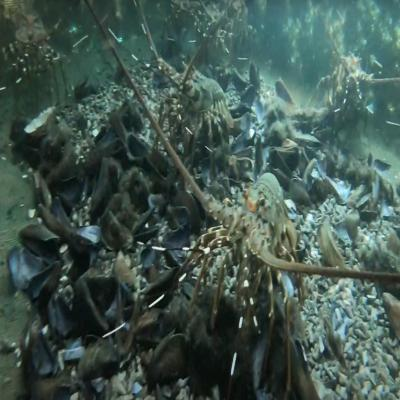lobster: (218, 170, 299, 334), (168, 62, 233, 162), (9, 18, 58, 102), (326, 48, 371, 132)
